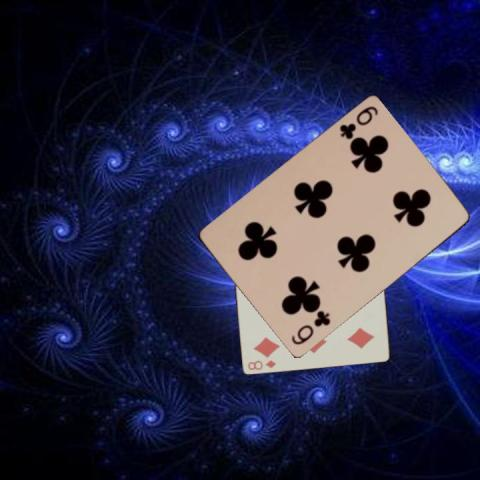6c: (288, 308, 332, 347), (336, 103, 380, 142)
8d: (245, 357, 277, 371)
